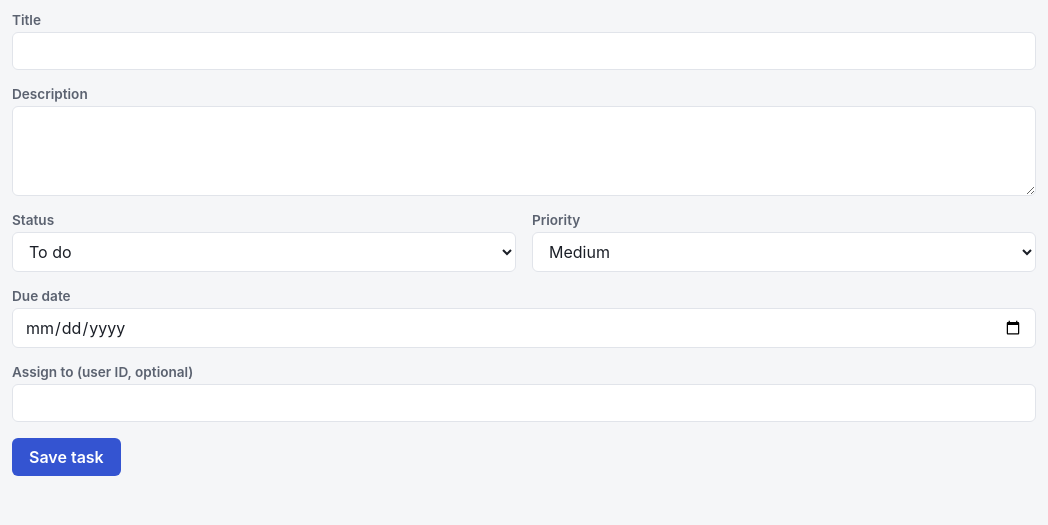
TaskForm › surfaces a server error message without crashing
In the field labelled "Title": [524, 51] box [12,32,1036,70], type "A task"
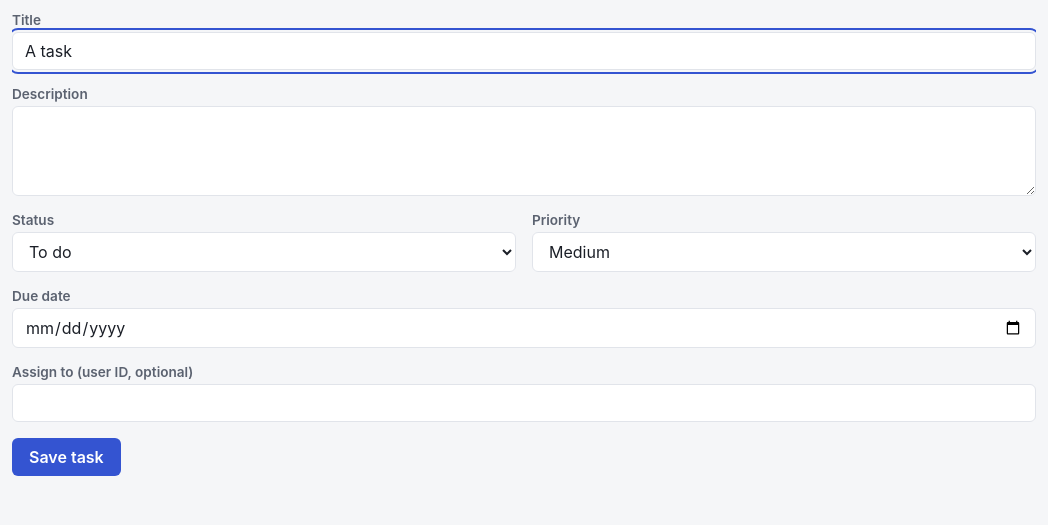
Click the button "Save task": [66, 457] box [12,438,121,476]
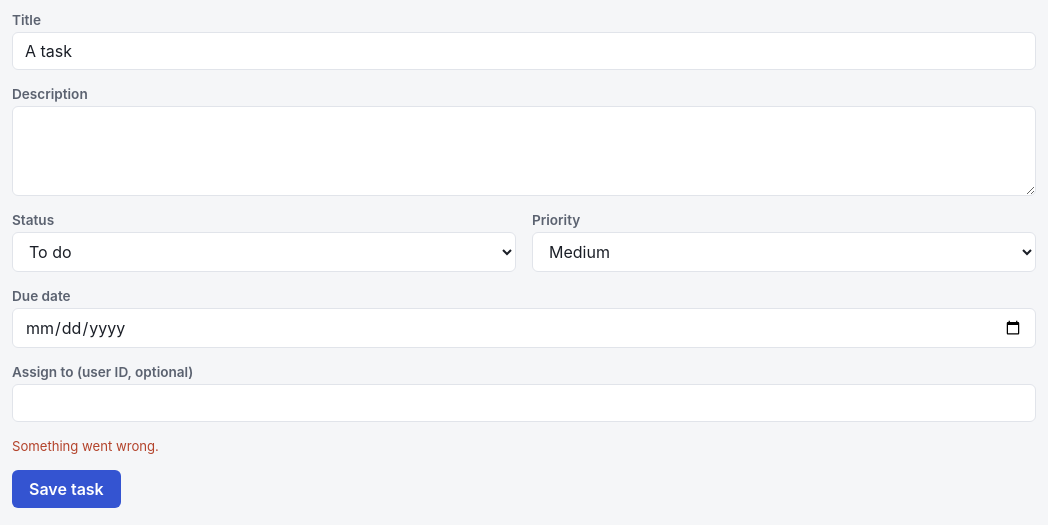
expect the text "Something went wrong." is shown: met, box [12,438,159,454]
